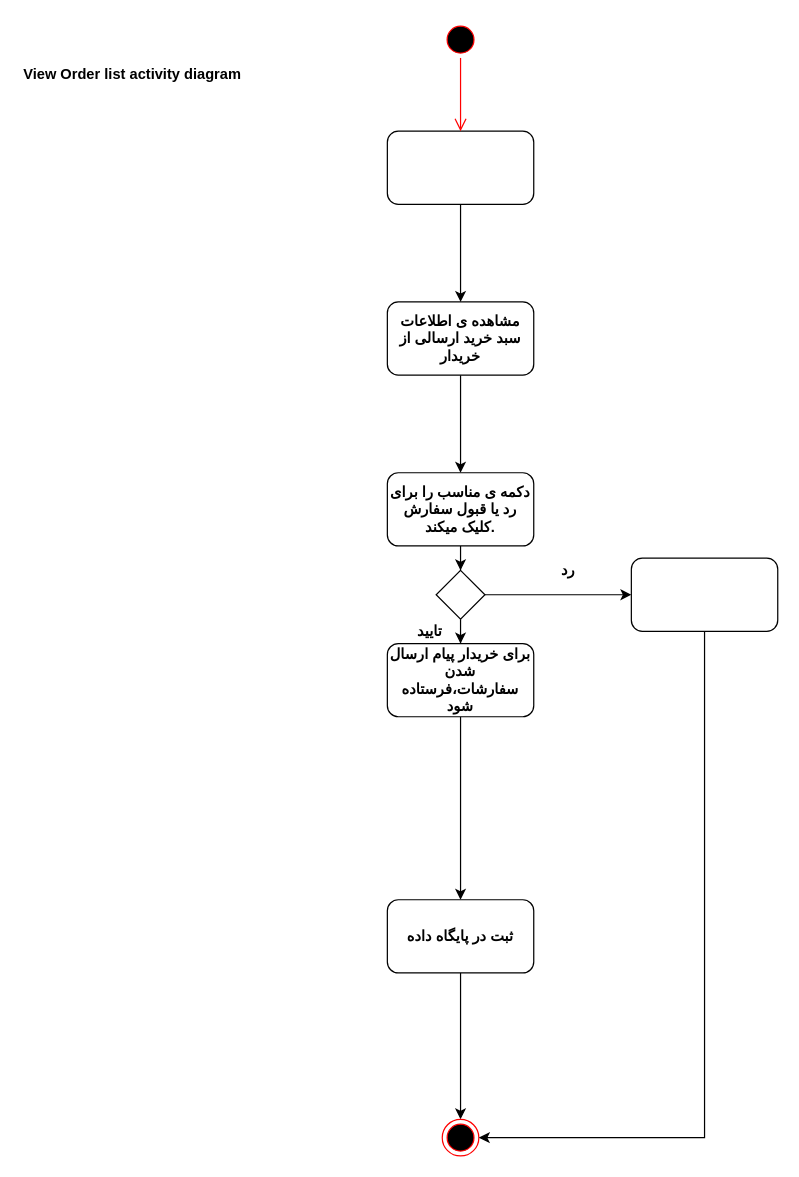
The diagram is 799 pixels wide and 1177 high, and some of its shapes have lost their labels. The shapes that lost their labels are listed below. From the top down, each one's centre as x and y in pixels, then its label:
point 460,167: انتخاب گزینه ی Order list توسط فروشنده
point 704,594: درصورت عدم تایید لیست سفارشات مشتری،پیام عدم تایید ارسال میشود
